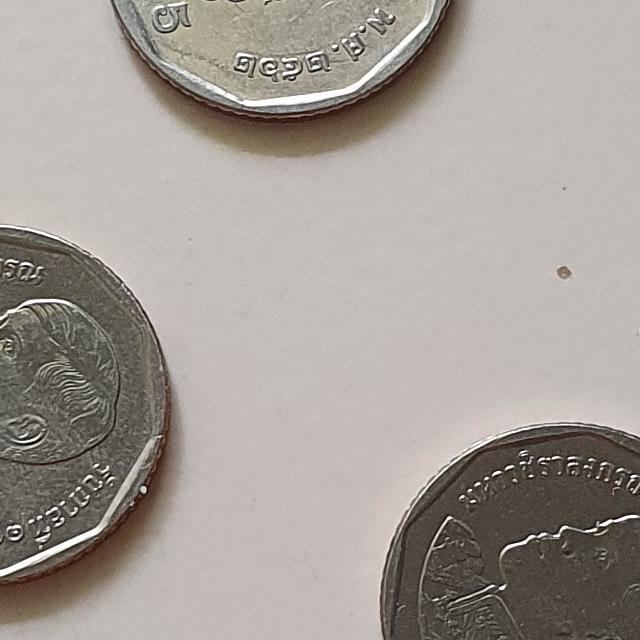5 Bath: (1, 216, 180, 596), (371, 415, 640, 640), (106, 1, 464, 124)
